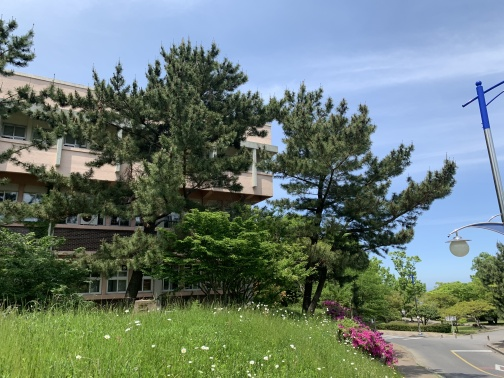College Of Education: (2, 69, 285, 316)
